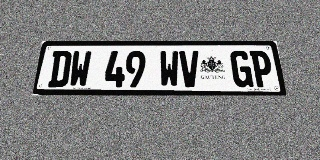4: (104, 51, 126, 87)
9: (125, 51, 146, 87)
D: (47, 51, 72, 87)
G: (230, 51, 254, 87)
P: (249, 51, 275, 87)
V: (179, 51, 200, 87)
W: (68, 51, 92, 87), (159, 51, 179, 87)
